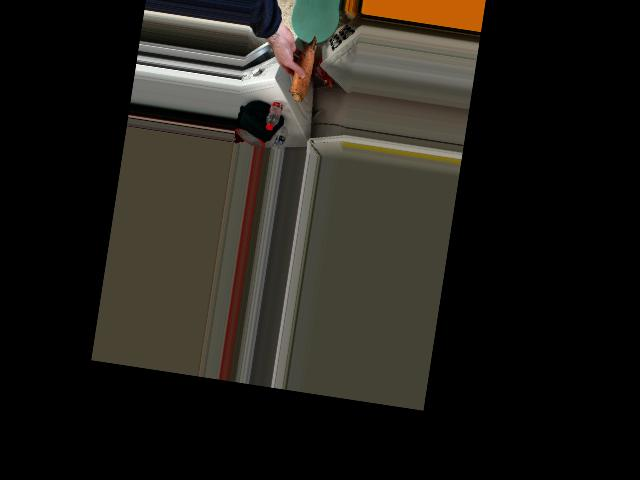sweet_potato: (286, 34, 318, 104)
